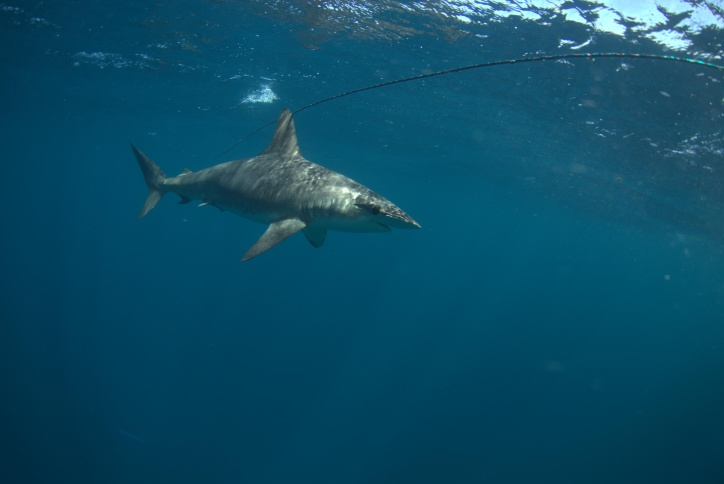Hammer: (128, 104, 450, 285)
